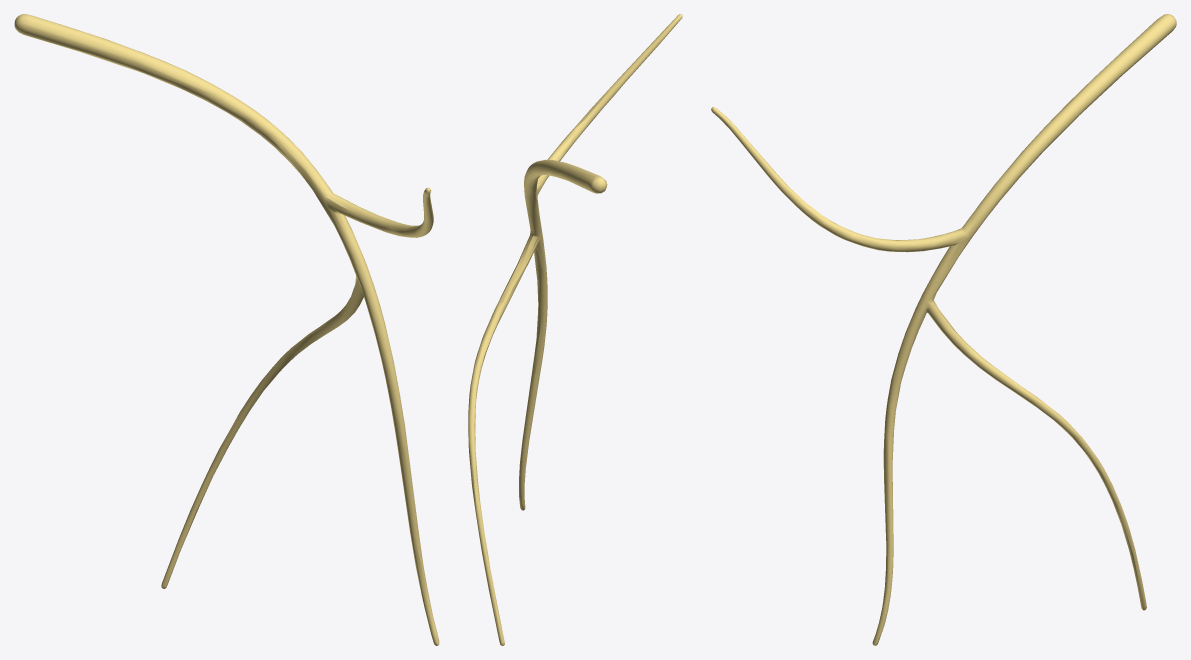
Rendered from fma53105_fj3953.glb.
The picture shows the model from 3 angles, left to right: view 1: azimuth 30°, elevation 25°; view 2: azimuth 150°, elevation 25°; view 3: azimuth 270°, elevation 25°; orthographic projection. The views are drawn at different scales.
Parts seen in each view (by area): view 1: FMA53105_FJ3953; view 2: FMA53105_FJ3953; view 3: FMA53105_FJ3953.
Part boxes in pixels (<box>): FMA53105_FJ3953: <box>14,14,439,645</box>; FMA53105_FJ3953: <box>468,14,682,645</box>; FMA53105_FJ3953: <box>711,14,1176,645</box>.
Bounding box in the file's own units: 0.0139 × 0.0302 × 0.0236.
